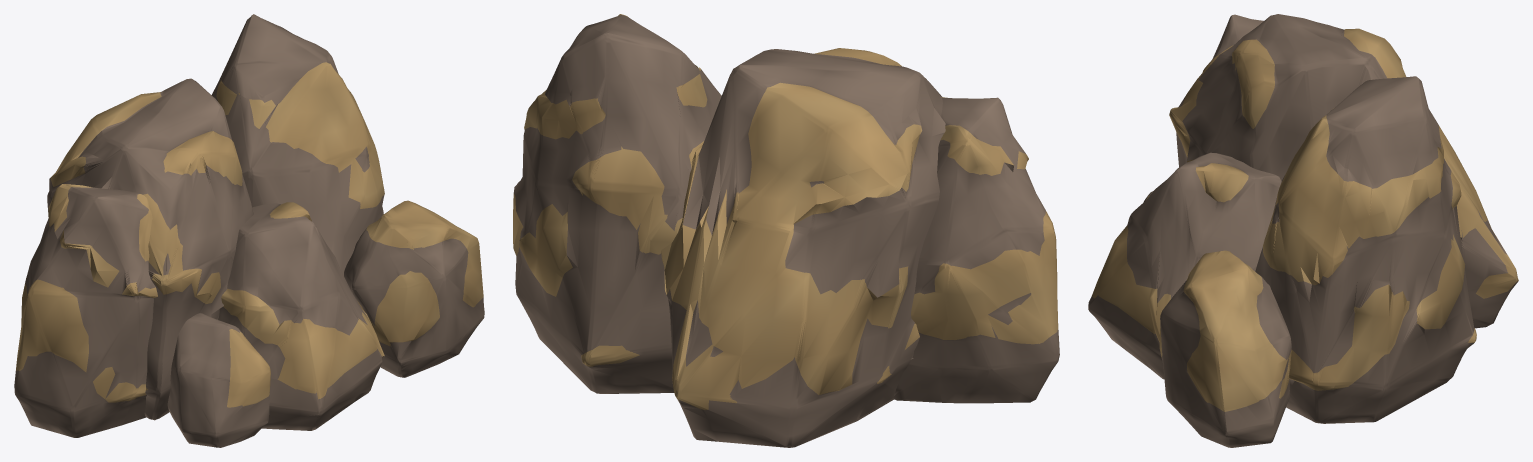
Rendered from corealm_ore_kilnstone.glb.
3 renders of one model, left to right at view 1: azimuth 30°, elevation 25°; view 2: azimuth 150°, elevation 25°; view 3: azimuth 270°, elevation 25°, orthographic. The views are drawn at different scales.
Parts seen in each view (by area): view 1: corealm_ore_kilnstone; view 2: corealm_ore_kilnstone; view 3: corealm_ore_kilnstone.
Boxes of the visible parts, x1,y1,x2,y2 form: corealm_ore_kilnstone: (14,14,484,447); corealm_ore_kilnstone: (513,14,1059,447); corealm_ore_kilnstone: (1088,14,1518,447).
Bounding box in the file's own units: 1.48 × 0.91 × 1.16.
